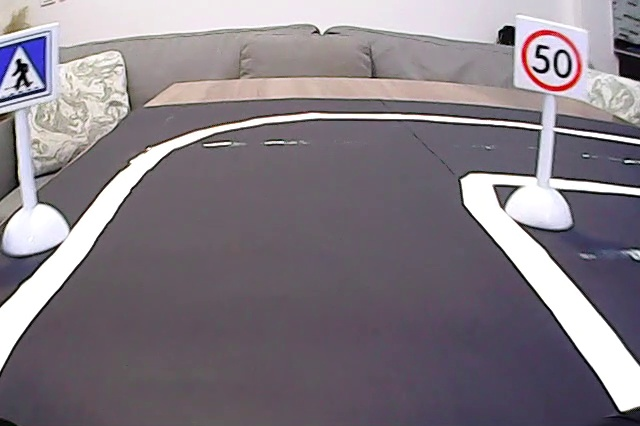pedestrian crossing: (1, 24, 58, 111)
speed limit 50: (516, 22, 585, 95)
